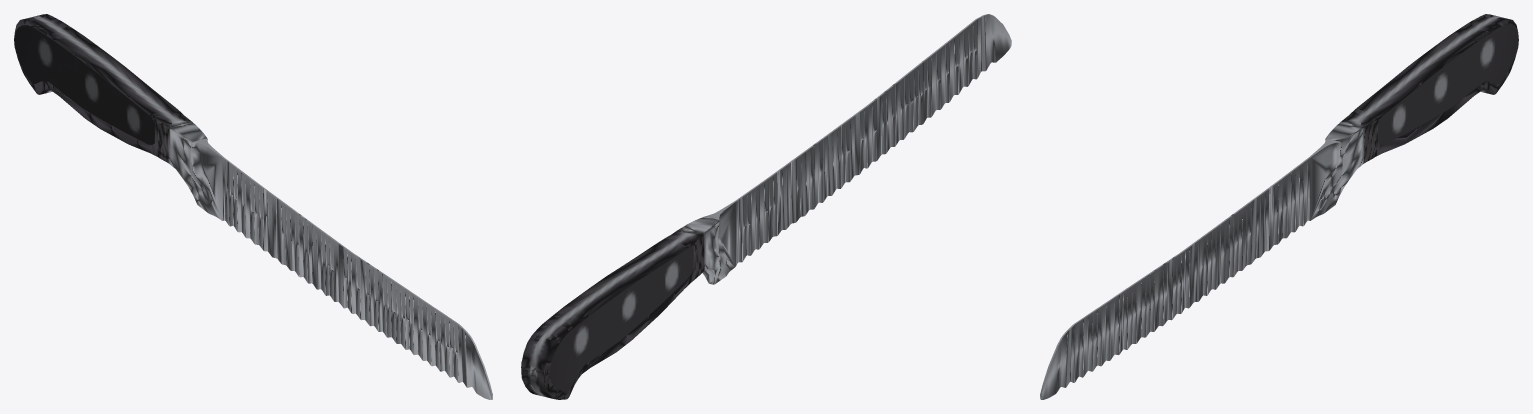
The model's file is kitchen-knife-set---asset-pack-c55d34.glb.
3 views of the same model, side by side, from view 1: azimuth 30°, elevation 25°; view 2: azimuth 150°, elevation 25°; view 3: azimuth 330°, elevation 25° (orthographic). The views are drawn at different scales.
Parts seen in each view (by area): view 1: PropMesh; view 2: PropMesh; view 3: PropMesh.
Part boxes in pixels (x1,y1,x2,y2): PropMesh: (14, 14, 492, 399); PropMesh: (521, 14, 1011, 399); PropMesh: (1040, 14, 1518, 399).
Bounding box in the file's own units: 0.013 × 0.0324 × 0.38.
1 material, 1 textured.
